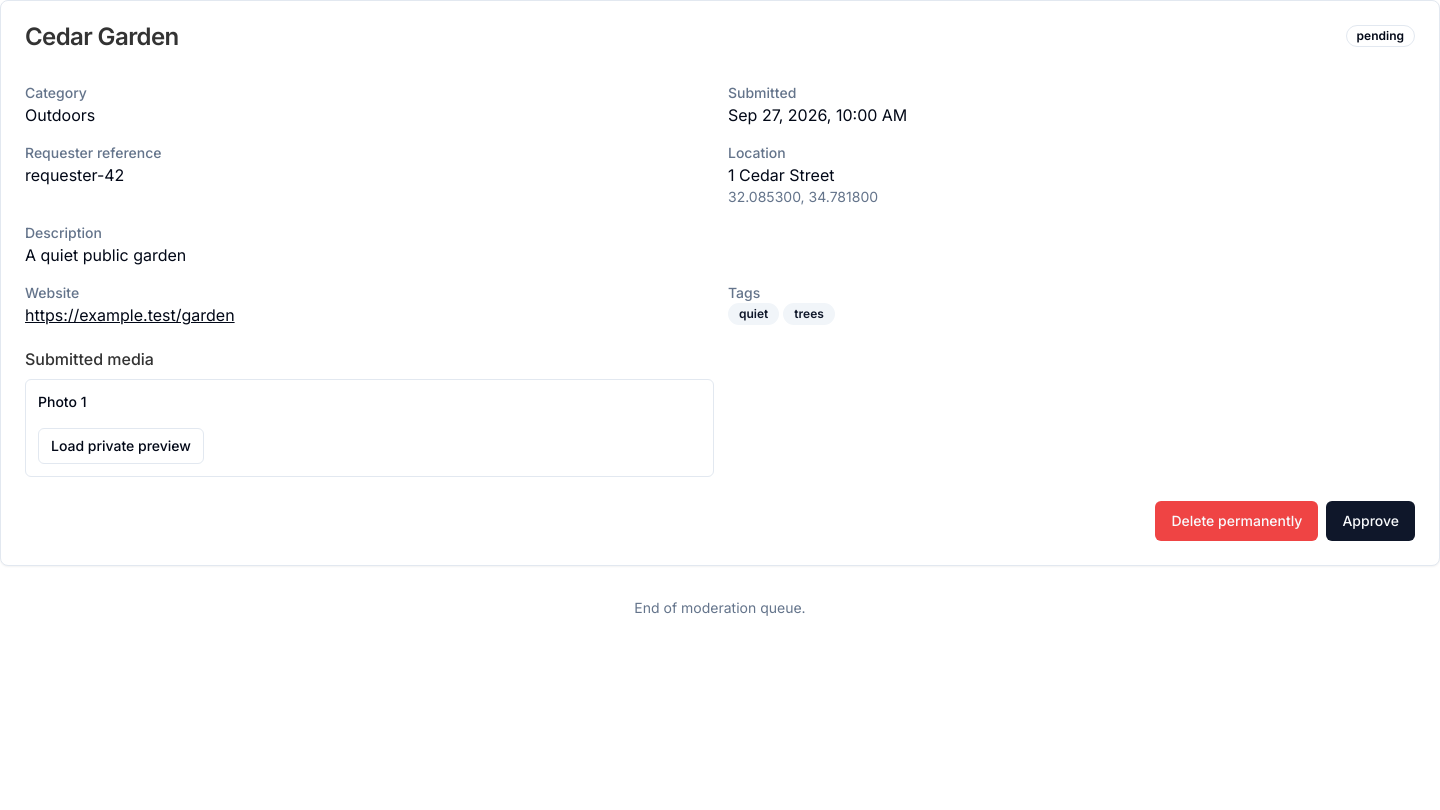
Test: reports a confirmed deletion even when the refresh needs a new session
The width and height of the screenshot is (1440, 810).
Click the button "Delete permanently".
click(1237, 521)  # box [1155,501,1318,541]
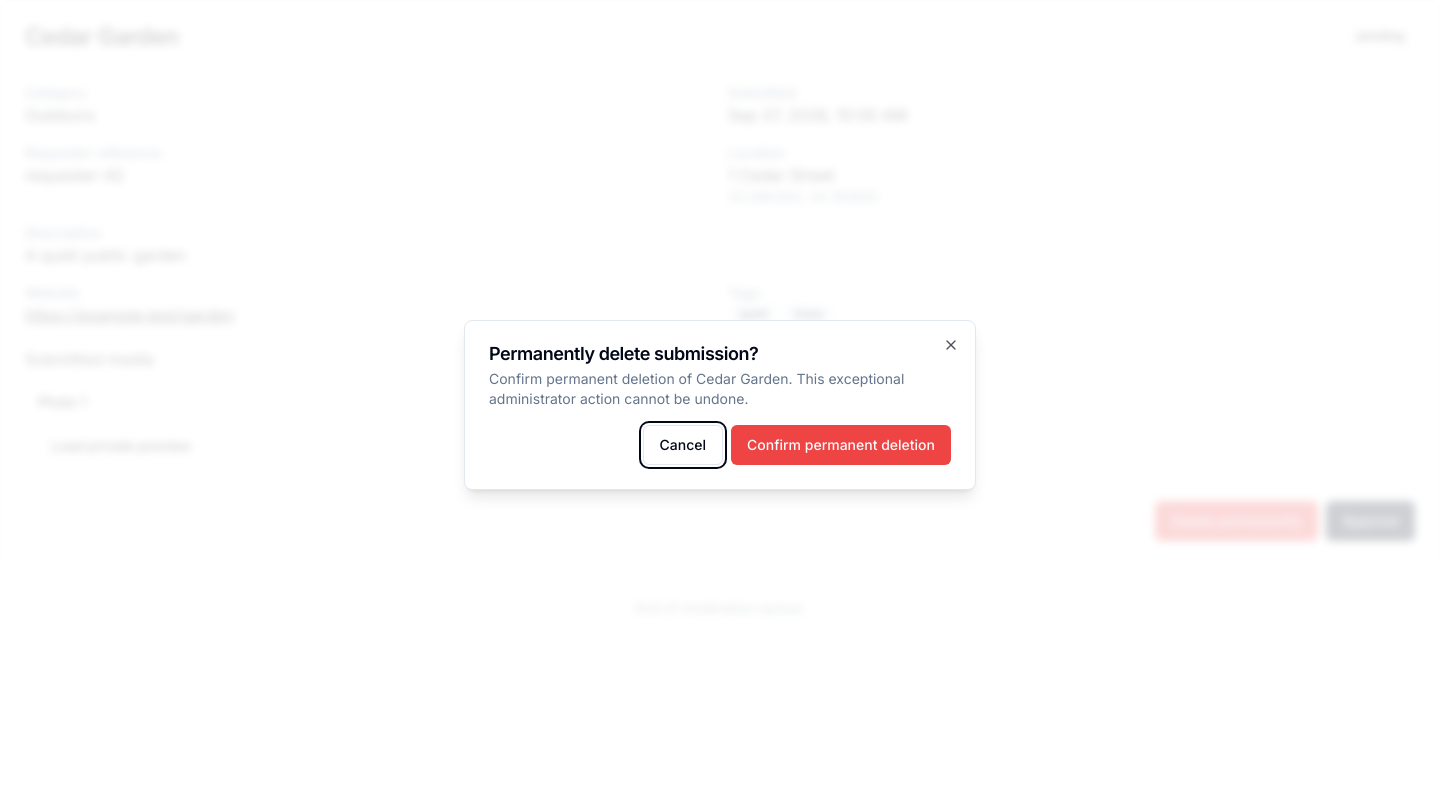
Click the button "Confirm permanent deletion".
click(841, 445)  # box [731,425,951,465]
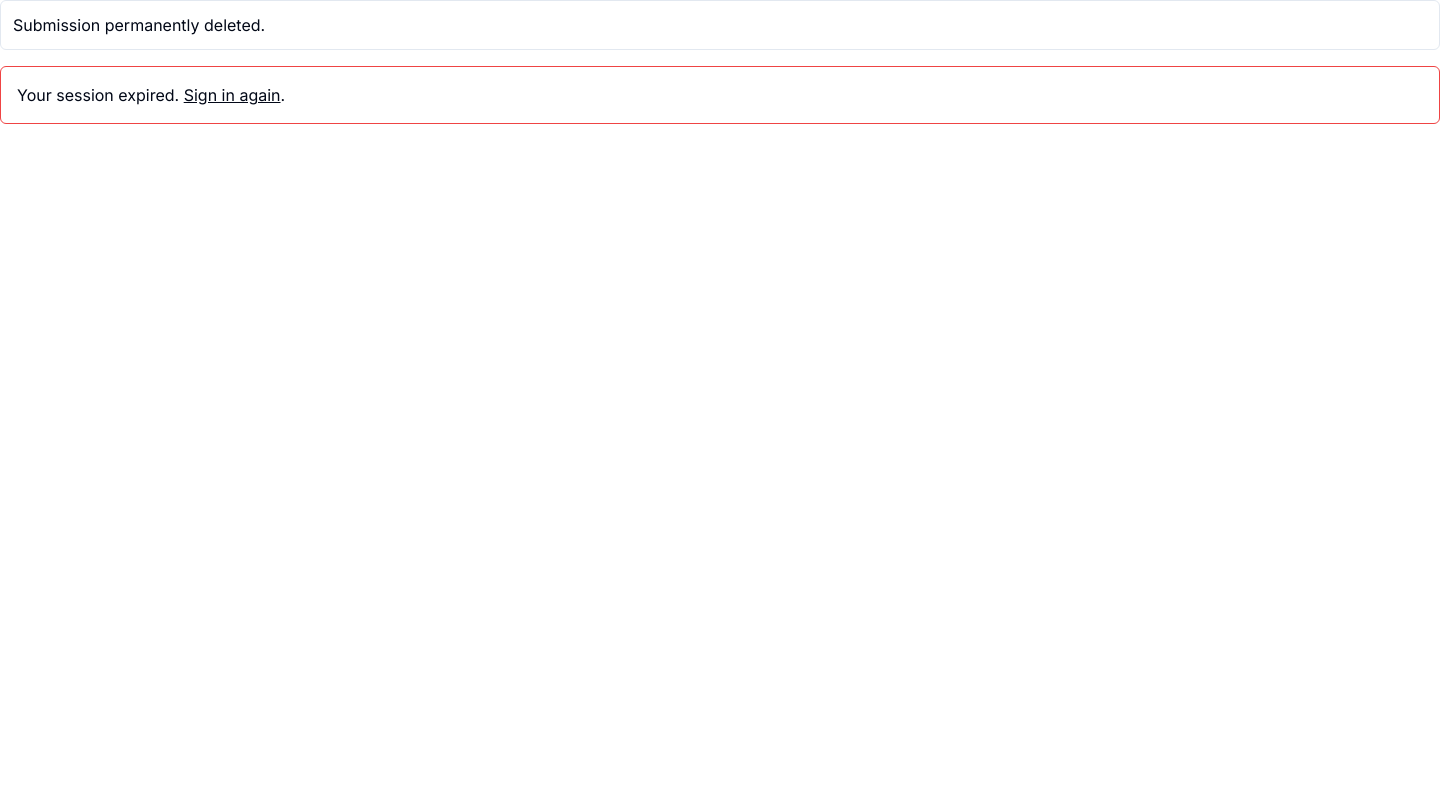
Expected: the message "Your session expired. Sign in again ." is shown, [0,66,1439,124]
Expected: the message "Submission permanently deleted." is shown, [0,0,1439,50]
